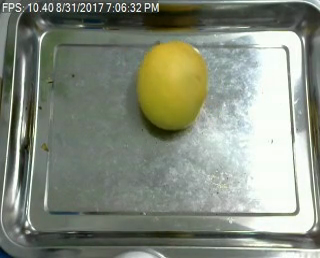Mango: (134, 42, 209, 130)
